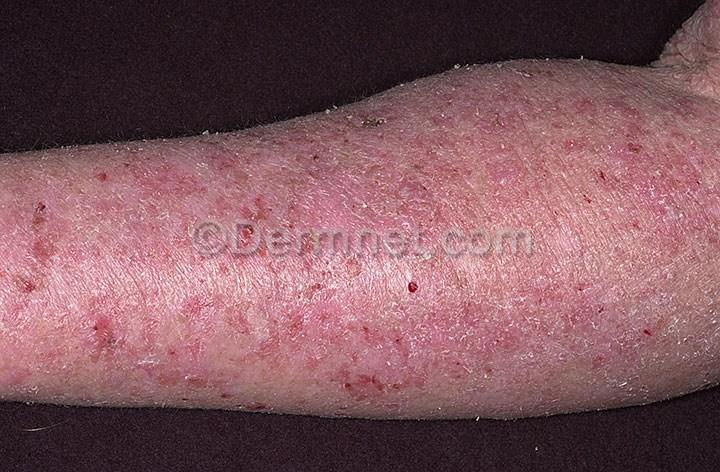Eczema: (2, 194, 177, 327), (294, 329, 584, 403), (472, 93, 662, 198), (179, 143, 417, 211), (199, 265, 409, 328), (73, 329, 275, 389), (427, 264, 599, 327), (664, 132, 720, 244)
